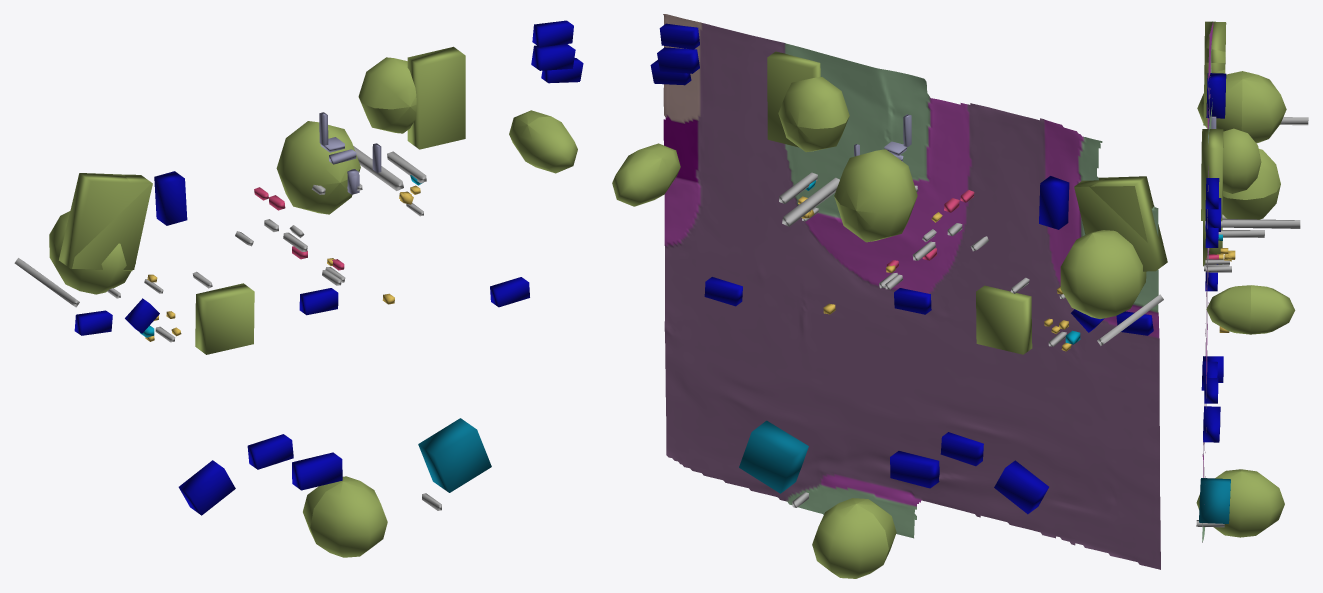
File: generated_low_2.glb
3 views of the same model, side by side, from view 1: azimuth 30°, elevation 25°; view 2: azimuth 150°, elevation 25°; view 3: azimuth 270°, elevation 25° (orthographic). The views are drawn at different scales.
Bounding box in the file's own units: 66.72 × 60.97 × 14.17.
